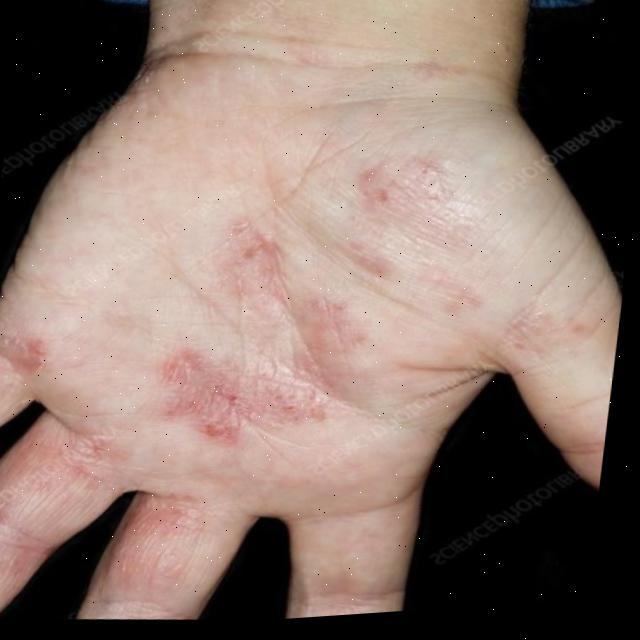Eczema: (0, 117, 520, 640)
